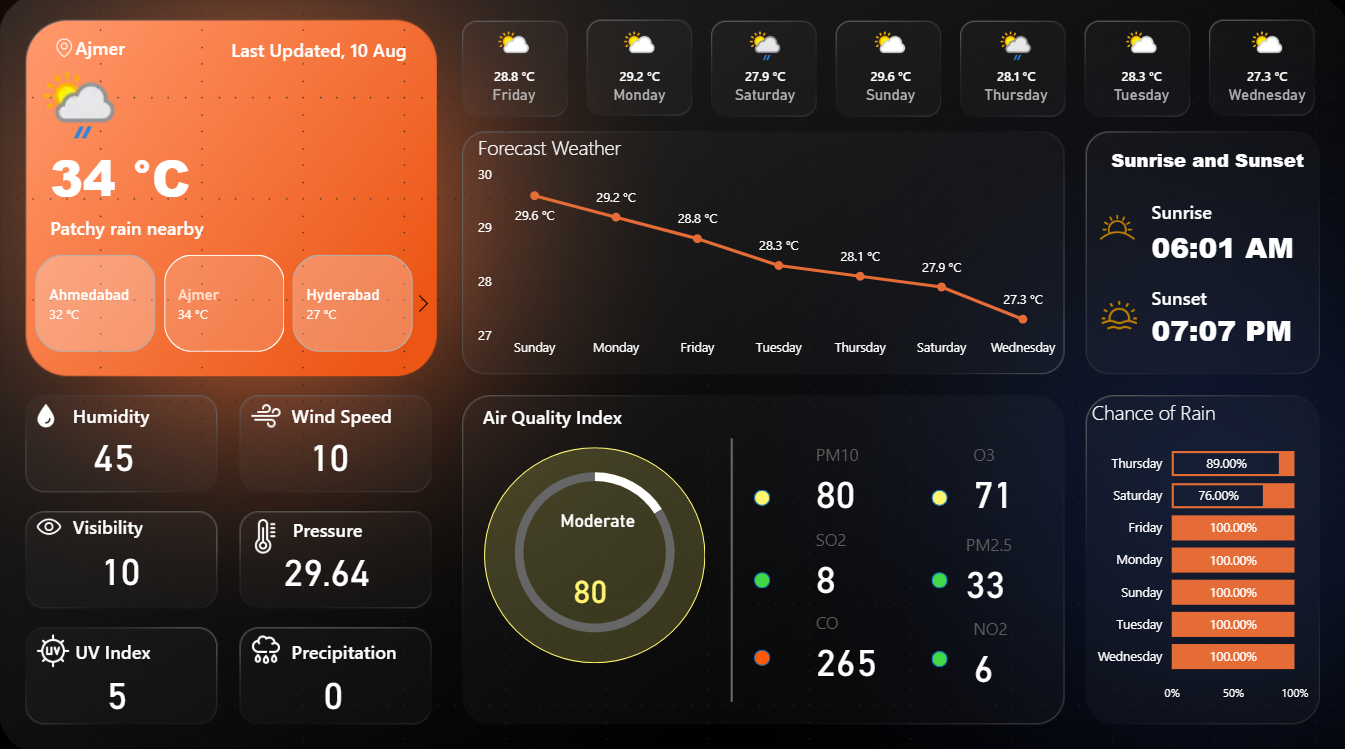

The page's visual inventory and layout, read from the dashboard file:
{"tool":"powerbi","page":{"name":"Page 1","canvas":[1280,720],"ordinal":0},"visuals":[{"type":"shape","box":[459.5,427.5,209.9,204.8],"z":0},{"type":"advancedSlicerVisual","fields":{"Values":["Locations.location.name"]},"box":[9.6,240.1,408.9,102.9],"z":1000},{"type":"shape","box":[48,123.5,237.4,96.1],"z":2000},{"type":"shape","box":[48,197.6,312.9,42.5],"z":3000},{"type":"shape","box":[72.7,32.9,146.8,31.6],"z":4000},{"type":"shape","box":[193.5,34.3,193.5,31.6],"z":5000},{"type":"image","box":[15.1,35.7,93.3,27.4],"z":6000},{"type":"cardVisual","fields":{"Data":["Min(Current.current.condition.icon)"]},"box":[9.6,35.7,124.9,135.8],"z":7000},{"type":"image","box":[27.4,381.5,34.3,32.9],"z":8000},{"type":"image","box":[17.8,484.4,59,37],"z":9000},{"type":"image","box":[26.1,599.7,50.8,42.5],"z":10000},{"type":"image","box":[233.3,377.4,39.8,42.5],"z":11000},{"type":"image","box":[230.5,484.4,42.5,54.9],"z":12000},{"type":"image","box":[229.2,598.3,48,42.5],"z":13000},{"type":"shape","box":[70,381.5,193.5,31.6],"z":14000},{"type":"shape","box":[70,487.1,193.5,31.6],"z":15000},{"type":"shape","box":[72.7,605.1,193.5,31.6],"z":16000},{"type":"shape","box":[277.2,381.5,193.5,31.6],"z":17000},{"type":"shape","box":[278.6,489.9,193.5,31.6],"z":18000},{"type":"shape","box":[277.2,605.1,193.5,31.6],"z":19000},{"type":"cardVisual","fields":{"Data":["Sum(Current.current.humidity)"]},"box":[72.7,359.5,149.6,149.6],"z":20000},{"type":"cardVisual","fields":{"Data":["Sum(Current.current.vis_km)"]},"box":[79.6,466.6,149.6,149.6],"z":21000},{"type":"cardVisual","fields":{"Data":["Sum(Current.current.uv)"]},"box":[84.5,598.8,148.9,121.5],"z":22000},{"type":"cardVisual","fields":{"Data":["Sum(Current.current.vis_km)"]},"box":[277.2,359.5,149.6,149.6],"z":23000},{"type":"cardVisual","fields":{"Data":["Sum(Current.current.pressure_in)"]},"box":[252,467,150,150],"z":24000},{"type":"cardVisual","fields":{"Data":["Sum(Current.current.precip_mm)"]},"box":[290.4,598.8,150,121.5],"z":25000},{"type":"advancedSlicerVisual","fields":{"Values":["Forecast.Day_Name"]},"box":[427.5,22.8,836.9,85.3],"z":26000},{"type":"lineChart","title":"Forecast Weather","fields":{"Category":["Forecast.Day_Name"],"Y":["Sum(Forecast.forecast.forecastday.day.avgtemp_c)"]},"box":[449.2,130.5,563.7,221.5],"z":27000},{"type":"shape","box":[1042.5,139.1,194.5,32],"z":28000},{"type":"shape","box":[1092.9,212.9,141.5,49.2],"z":29000},{"type":"shape","box":[1092.9,155.1,87.4,97.2],"z":30000},{"type":"shape","box":[1092.9,237.5,87.4,97.2],"z":31000},{"type":"shape","box":[1092.9,291.7,141.5,49.2],"z":32000},{"type":"image","box":[1033.8,190.8,54.2,56.6],"z":33000},{"type":"image","box":[1040,278.2,43.1,48],"z":34000},{"type":"hundredPercentStackedBarChart","title":"Chance of Rain","fields":{"Y":["Sum(Forecast.forecast.forecastday.day.daily_chance_of_rain)","_Measures.Left_value_Rain"],"Category":["Forecast.Day_Name"]},"box":[1031.4,381.5,215.4,296.6],"z":35000},{"type":"shape","box":[459.1,382.8,194.5,32],"z":36000},{"type":"cardVisual","title":"PM10","fields":{"Data":["Sum(Current.current.air_quality.pm2_5)"]},"box":[899.8,491.5,120.3,98.6],"z":37000},{"type":"cardVisual","title":"PM10","fields":{"Data":["Sum(Current.current.air_quality.so2)"]},"box":[757.8,487.7,106.2,98.6],"z":38000},{"type":"cardVisual","title":"PM10","fields":{"Data":["Sum(Current.current.air_quality.co)"]},"box":[757.8,565.8,157.4,98.6],"z":39000},{"type":"cardVisual","title":"PM10","fields":{"Data":["Sum(Current.current.air_quality.o3)"]},"box":[906.2,407,106.2,98.6],"z":40000},{"type":"cardVisual","title":"PM10","fields":{"Data":["Sum(Current.current.air_quality.pm10)"]},"box":[757.8,407,106.2,98.6],"z":41000},{"type":"cardVisual","title":"PM10","fields":{"Data":["Sum(Current.current.air_quality.no2)"]},"box":[906.2,570.9,120.3,98.6],"z":42000},{"type":"shape","box":[715.5,468.5,15.4,15.4],"z":43000},{"type":"shape","box":[715.5,546.6,15.4,15.4],"z":44000},{"type":"shape","box":[715.5,619.5,15.4,15.4],"z":45000},{"type":"shape","box":[884.5,468.5,15.4,15.4],"z":46000},{"type":"shape","box":[884.5,546.6,15.4,15.4],"z":47000},{"type":"shape","box":[884.5,620.8,15.4,15.4],"z":48000},{"type":"shape","box":[619.5,419.8,149.8,249.6],"z":49000},{"type":"cardVisual","fields":{"Data":["Sum(Current.current.air_quality.pm10)"]},"box":[527.4,487.7,142.1,133.1],"z":50000},{"type":"donutChart","title":"PM10","fields":{"Y":["Sum(Current.current.air_quality.pm10)","_Measures.Left_value_PM10"]},"box":[441.6,427.5,245.8,199.7],"z":51000}]}

Visuals, with their boxes in screenshot pixels (x1, y1, x2, y2), scaled from the page's 1280x720 canvas onto the 1345x749 screenshot:
shape: 483, 445, 703, 658
advancedSlicerVisual - Locations.location.name: 10, 250, 440, 357
shape: 50, 128, 300, 228
shape: 50, 206, 379, 250
shape: 76, 34, 231, 67
shape: 203, 36, 407, 69
image: 16, 37, 114, 66
cardVisual - Min(Current.current.condition.icon): 10, 37, 141, 178
image: 29, 397, 65, 431
image: 19, 504, 81, 542
image: 27, 624, 81, 668
image: 245, 393, 287, 437
image: 242, 504, 287, 561
image: 241, 622, 291, 667
shape: 74, 397, 277, 430
shape: 74, 507, 277, 540
shape: 76, 629, 280, 662
shape: 291, 397, 495, 430
shape: 293, 510, 496, 543
shape: 291, 629, 495, 662
cardVisual - Sum(Current.current.humidity): 76, 374, 234, 530
cardVisual - Sum(Current.current.vis_km): 84, 485, 241, 641
cardVisual - Sum(Current.current.uv): 89, 623, 245, 748
cardVisual - Sum(Current.current.vis_km): 291, 374, 448, 530
cardVisual - Sum(Current.current.pressure_in): 265, 486, 422, 642
cardVisual - Sum(Current.current.precip_mm): 305, 623, 463, 748
advancedSlicerVisual - Forecast.Day_Name: 449, 24, 1329, 112
"Forecast Weather" lineChart: 472, 136, 1064, 366
shape: 1095, 145, 1300, 178
shape: 1148, 221, 1297, 273
shape: 1148, 161, 1240, 262
shape: 1148, 247, 1240, 348
shape: 1148, 303, 1297, 355
image: 1086, 198, 1143, 257
image: 1093, 289, 1138, 339
"Chance of Rain" hundredPercentStackedBarChart: 1084, 397, 1310, 705
shape: 482, 398, 687, 432
"PM10" cardVisual: 945, 511, 1072, 614
"PM10" cardVisual: 796, 507, 908, 610
"PM10" cardVisual: 796, 589, 962, 691
"PM10" cardVisual: 952, 423, 1064, 526
"PM10" cardVisual: 796, 423, 908, 526
"PM10" cardVisual: 952, 594, 1079, 696
shape: 752, 487, 768, 503
shape: 752, 569, 768, 585
shape: 752, 644, 768, 660
shape: 929, 487, 946, 503
shape: 929, 569, 946, 585
shape: 929, 646, 946, 662
shape: 651, 437, 808, 696
cardVisual - Sum(Current.current.air_quality.pm10): 554, 507, 703, 646
"PM10" donutChart: 464, 445, 722, 652
